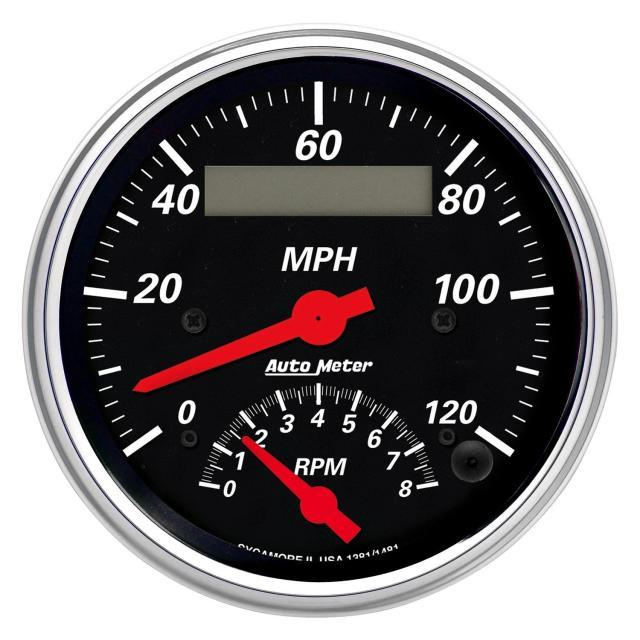Needle_Tip: (113, 363, 186, 412)
Needle_base: (291, 282, 351, 355)
max_value: (409, 389, 494, 439)
min_value: (156, 398, 228, 431)
